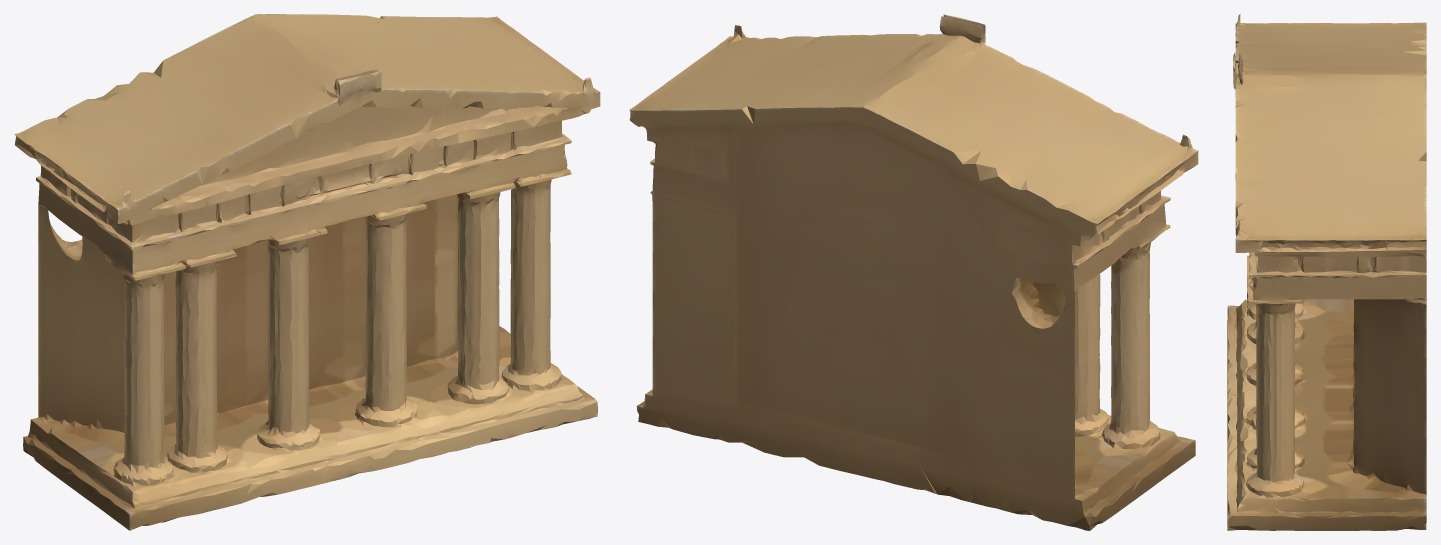
The model's file is greece_temple.glb.
3 renders of one model, left to right at view 1: azimuth 30°, elevation 25°; view 2: azimuth 150°, elevation 25°; view 3: azimuth 270°, elevation 25°, orthographic. The views are drawn at different scales.
Visible parts, largest first — view 1: greece_temple; view 2: greece_temple; view 3: greece_temple.
Part boxes in pixels (box(x1,y1,x2,y2)): greece_temple: box(14, 14, 600, 530); greece_temple: box(629, 14, 1198, 530); greece_temple: box(1227, 14, 1426, 530).
Bounding box in the file's own units: 1.6 × 1.25 × 0.6193.
1 material, 1 textured.
